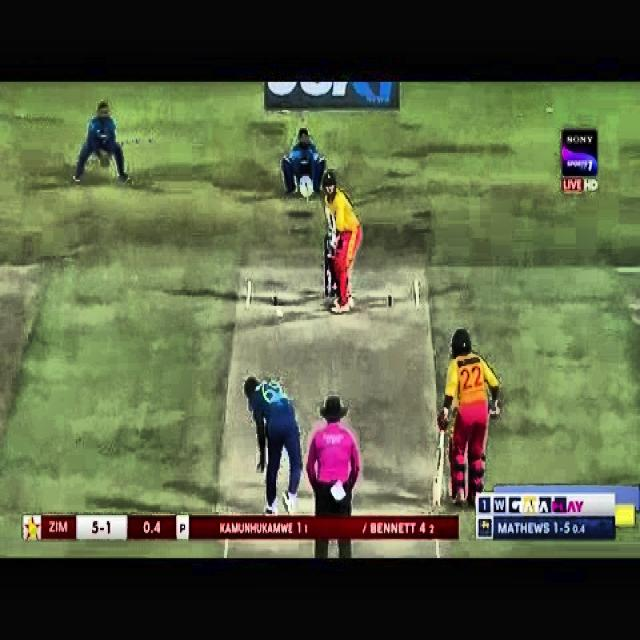Left-stump: (324, 238, 328, 294)
Middle-stump: (330, 272, 334, 295)
